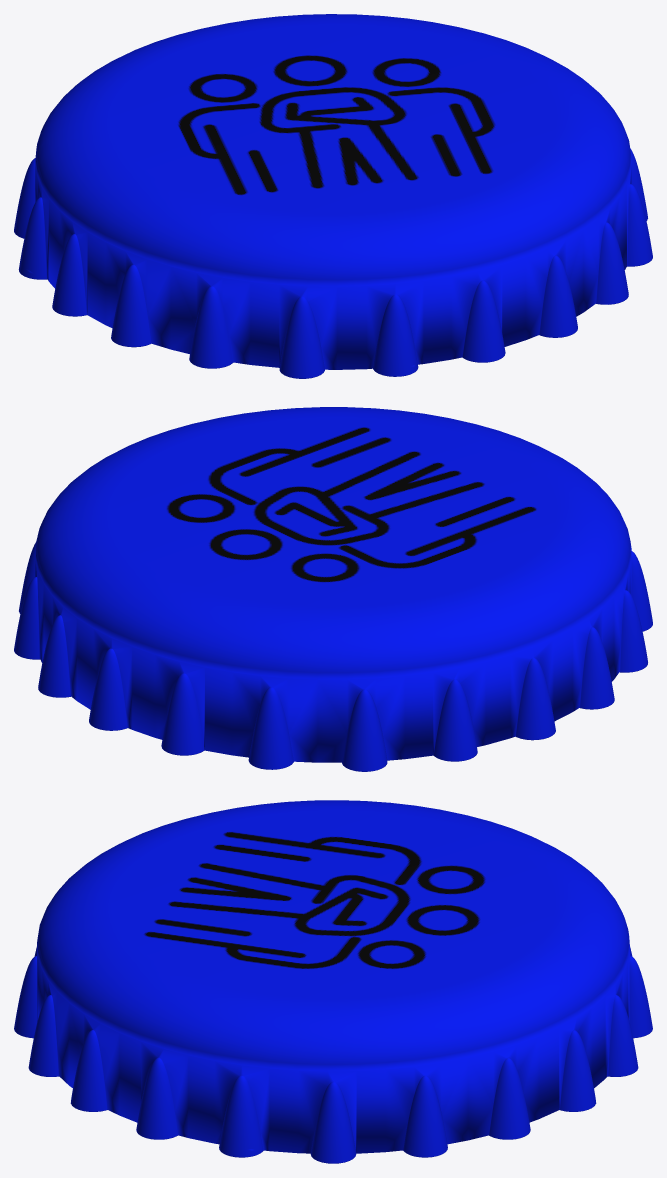
The model's file is ChapaA.glb.
3 renders of one model, top to bottom at view 1: azimuth 30°, elevation 25°; view 2: azimuth 150°, elevation 25°; view 3: azimuth 270°, elevation 25°, orthographic.
Parts seen in each view (by area): view 1: bottle_cap_blank; view 2: bottle_cap_blank; view 3: bottle_cap_blank.
Part boxes in pixels (x1=…): bottle_cap_blank: x1=14, y1=14, x2=652, y2=378; bottle_cap_blank: x1=14, y1=407, x2=652, y2=771; bottle_cap_blank: x1=14, y1=800, x2=652, y2=1163.
Bounding box in the file's own units: 28 × 6 × 28.
1 material, 1 textured.
